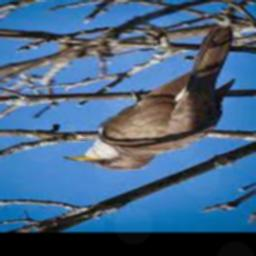Cuckoo: (67, 26, 238, 170)
